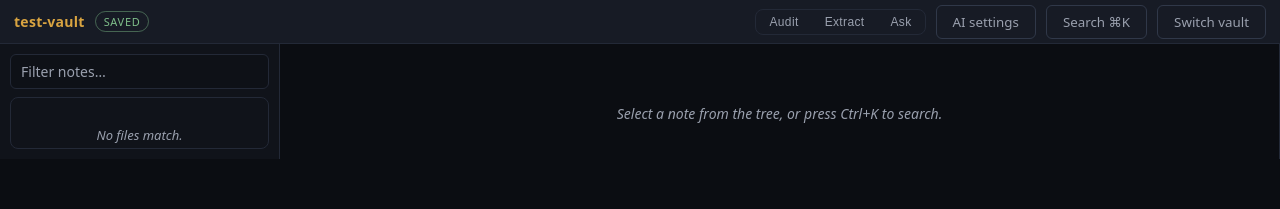
Scenario: App — AI right rail (M2 I1) › switching tabs replaces the previous panel
Step 1. Click the button "Audit" → (784, 22), box [756,10,812,34]
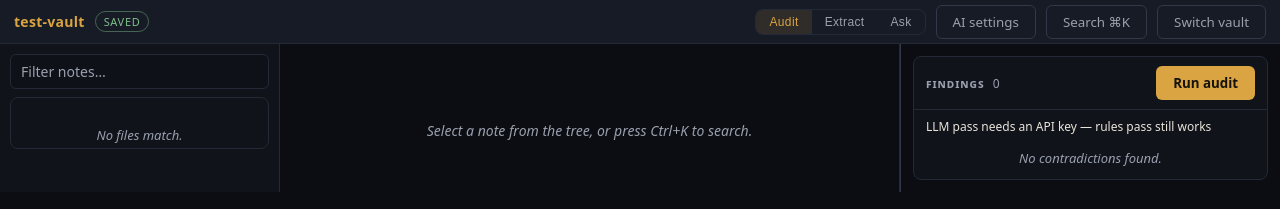
Now the element named "Findings" is shown, box [913,56,1268,180]
Step 2. Click the button "Extract" → (845, 22), box [812,10,878,34]
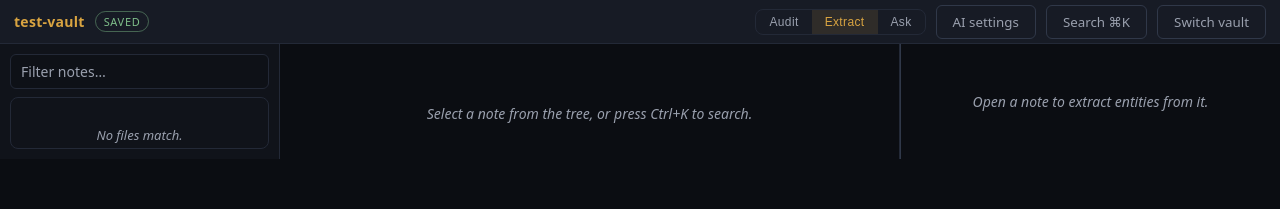
Now the element named "Findings" is gone
Now the text "Open a note to extract entities" is shown, box [973,92,1208,111]
